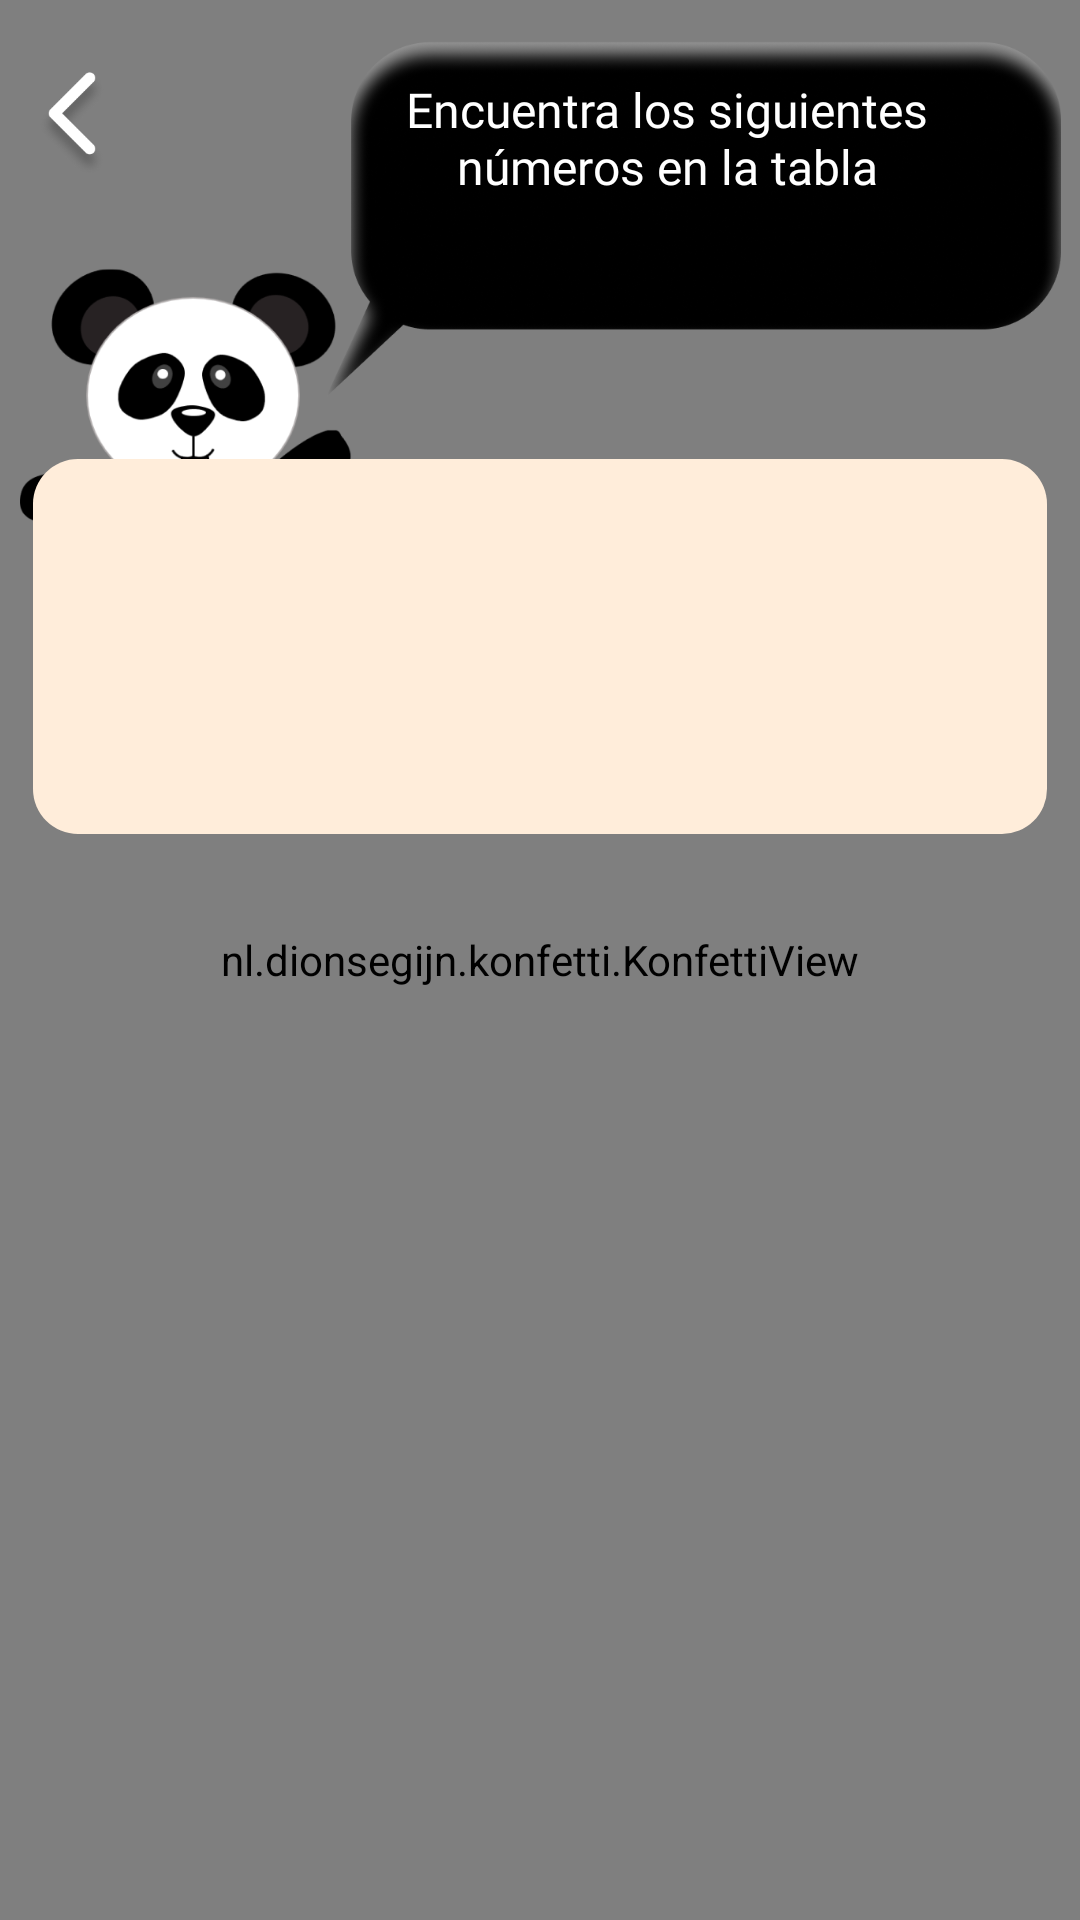

Where icons sit on this 1080px×1920px app screen, as Rect(x1, y1, x2, y2):
regresar: Rect(49, 72, 95, 154)
